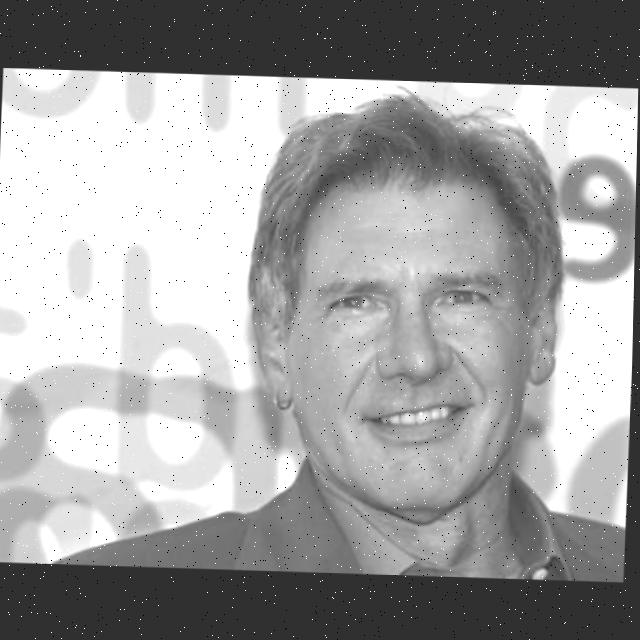face: (230, 95, 579, 537)
